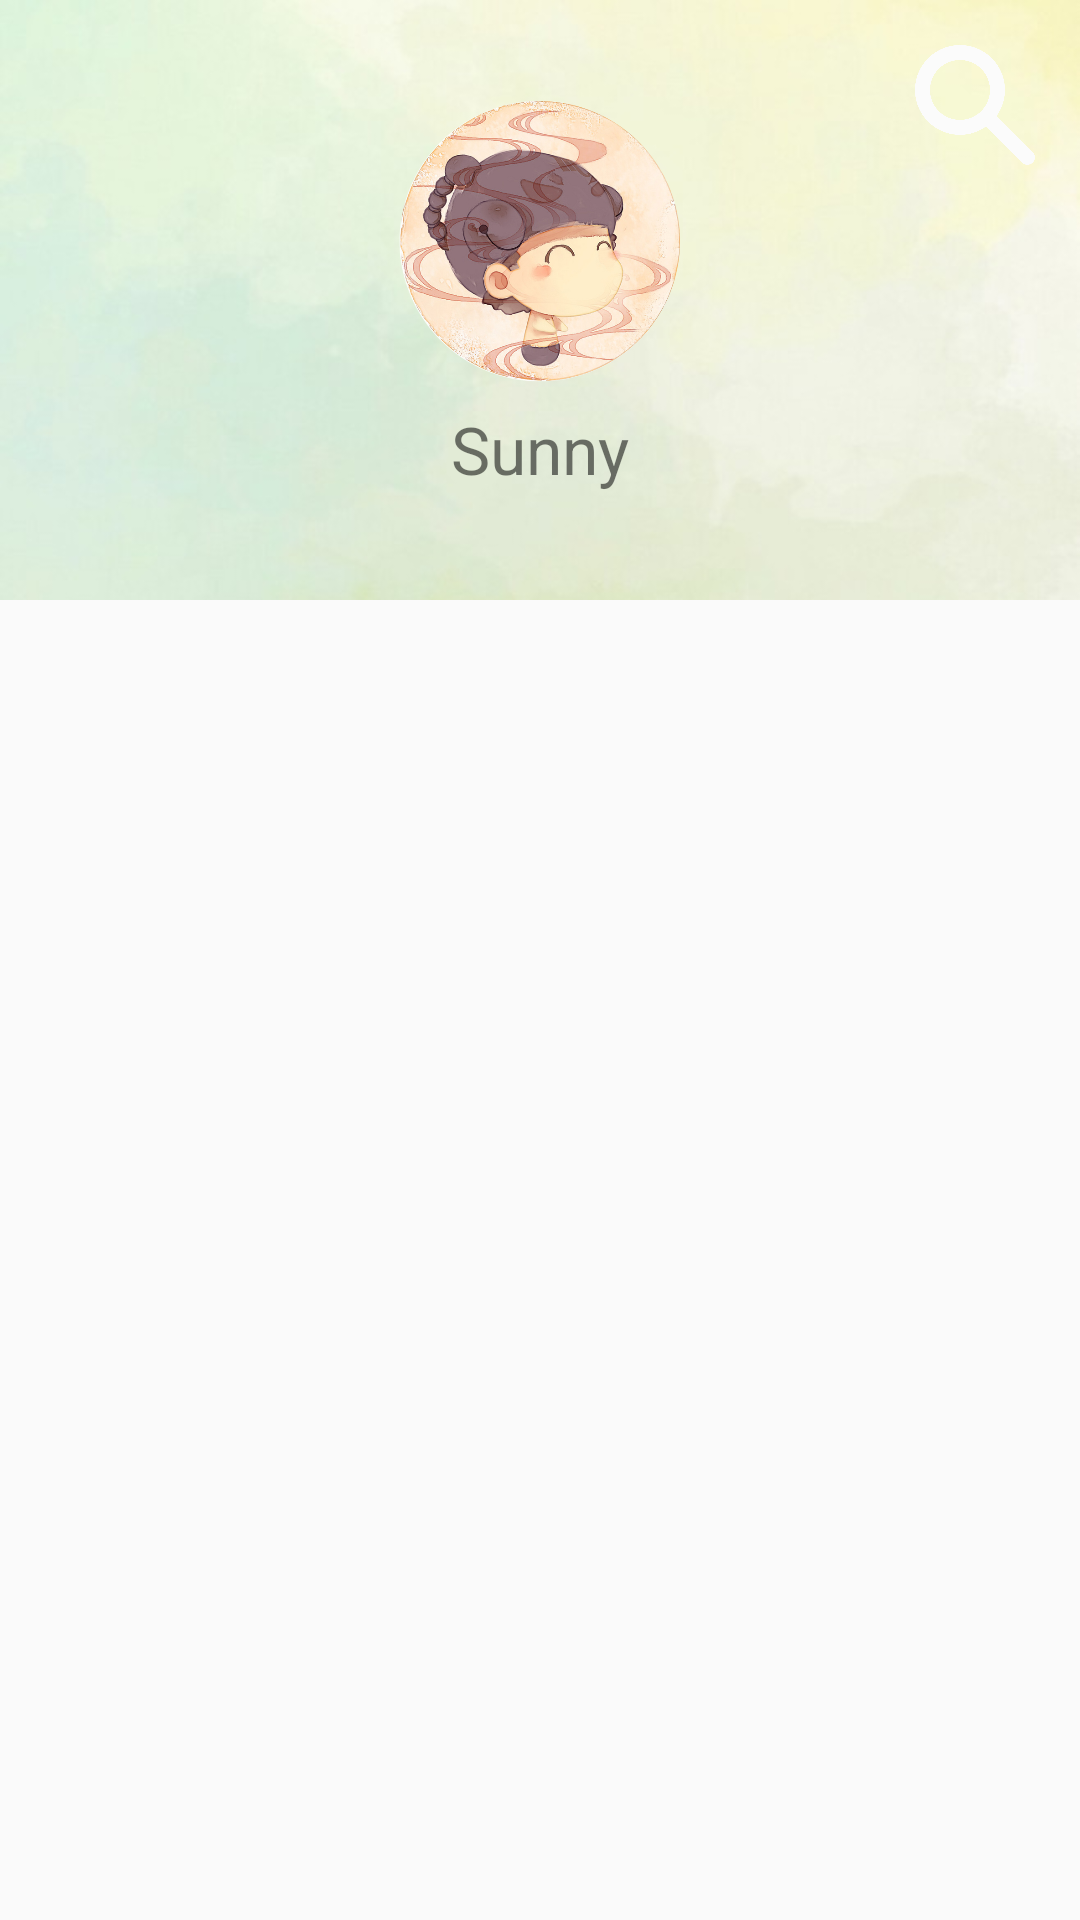

Point at icon controls on the screen. Image size 1080 × 1920, points as [x,y].
search: [975,105]
touxiang: [537,240]
